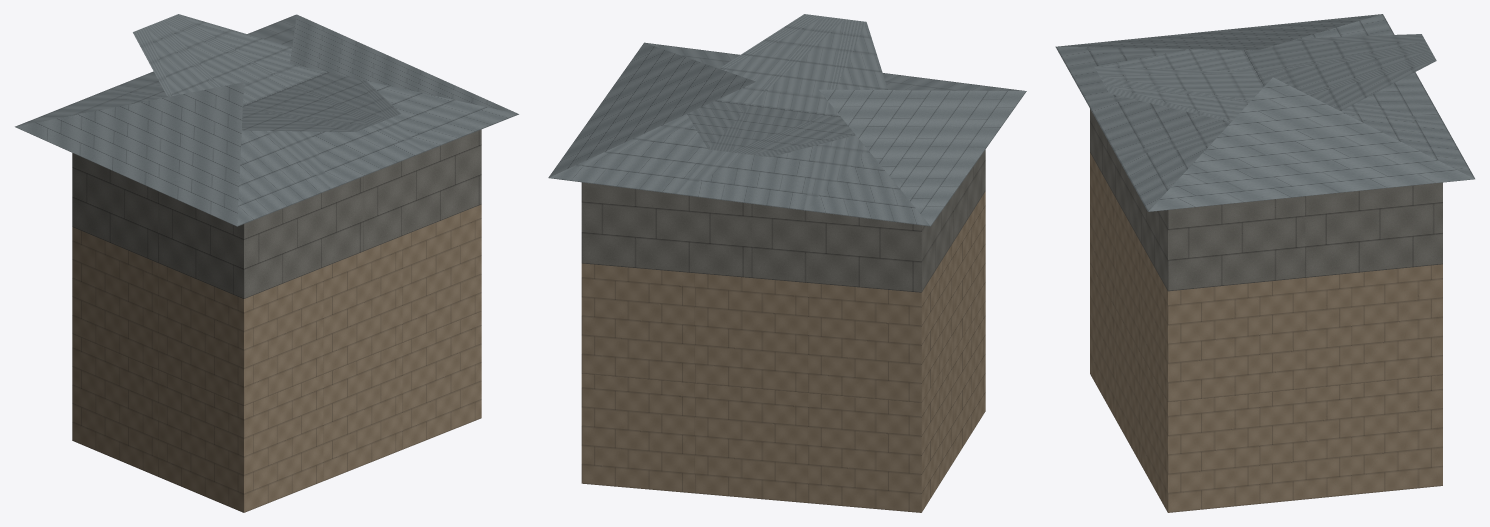
Rendered from bld_c18_30_373.gltf.
3 renders of one model, left to right at view 1: azimuth 30°, elevation 25°; view 2: azimuth 150°, elevation 25°; view 3: azimuth 270°, elevation 25°, orthographic. The views are drawn at different scales.
Parts seen in each view (by area): view 1: bld_c18_30_373; view 2: bld_c18_30_373; view 3: bld_c18_30_373.
Part boxes in pixels (x1,y1,x2,y2): bld_c18_30_373: (15,14,518,512); bld_c18_30_373: (548,14,1026,512); bld_c18_30_373: (1055,14,1474,512).
Size of the model in its own units: 8.63 by 7.4 by 7.73.
3 materials, 3 textured.
